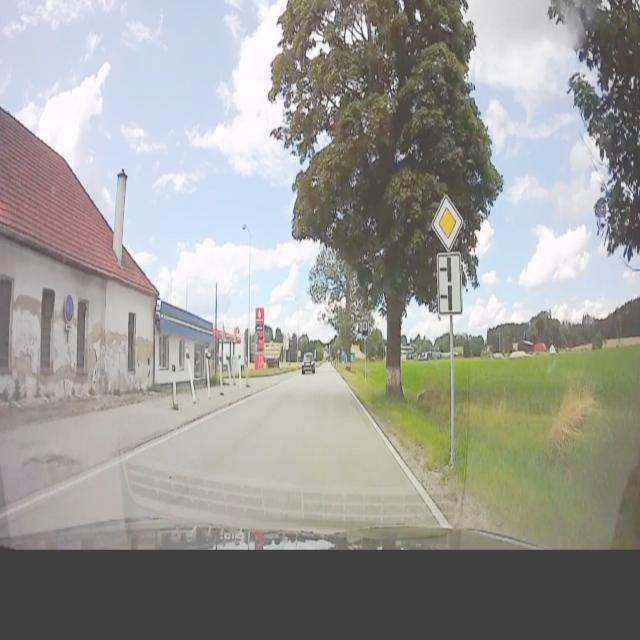Priority road: (430, 193, 465, 252)
